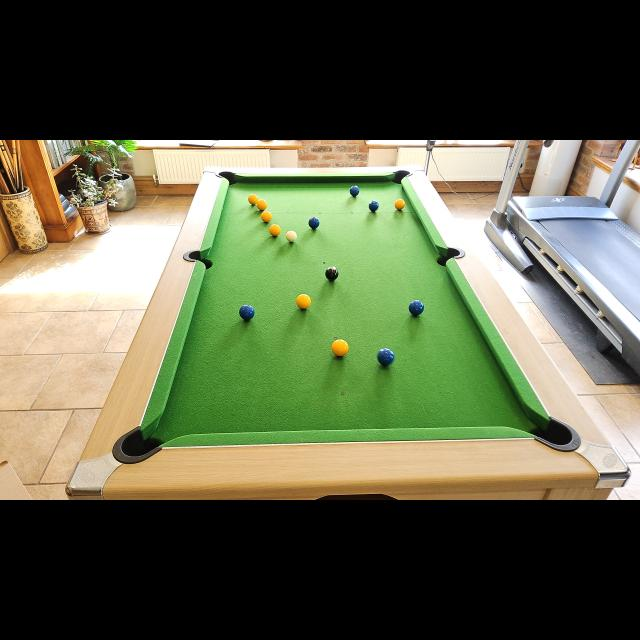Ball: (378, 348, 394, 366), (332, 339, 348, 356), (408, 300, 424, 316), (296, 294, 312, 310), (240, 304, 254, 320), (325, 266, 339, 280), (308, 217, 320, 230), (286, 230, 298, 242), (394, 198, 406, 210), (269, 224, 281, 236), (260, 212, 272, 222), (248, 194, 258, 206), (256, 200, 268, 210), (369, 200, 379, 212), (350, 186, 360, 197)
